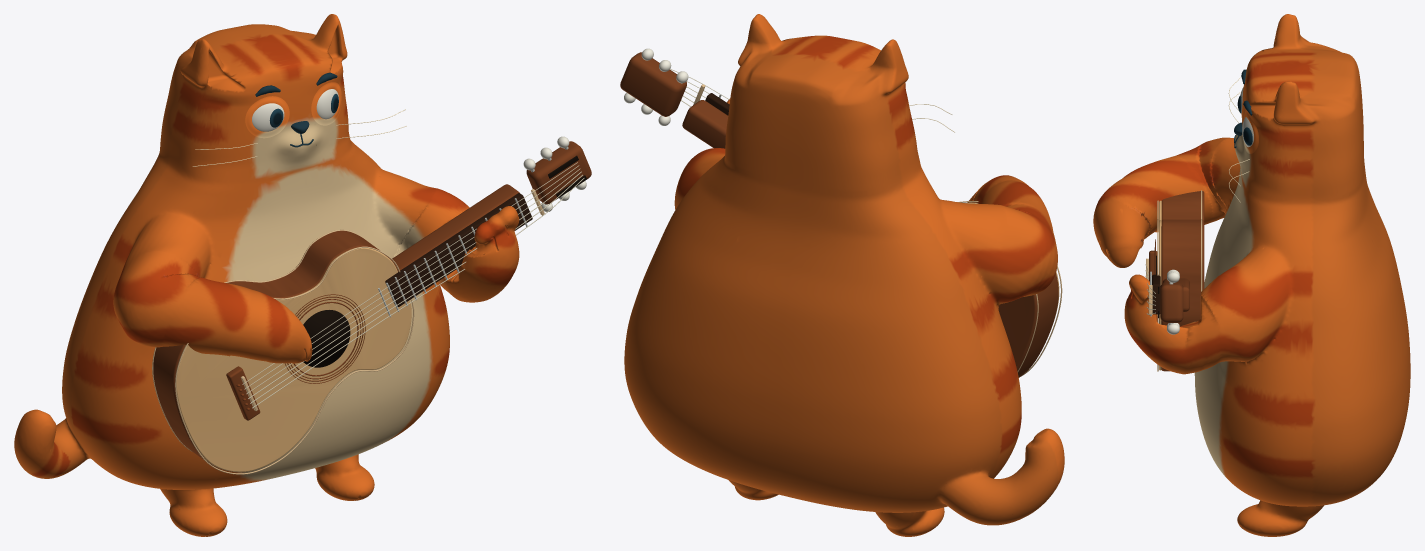
Rendered from miao-playable.glb.
The picture shows the model from 3 angles, left to right: view 1: azimuth 30°, elevation 25°; view 2: azimuth 150°, elevation 25°; view 3: azimuth 270°, elevation 25°; orthographic projection. The views are drawn at different scales.
Parts seen in each view (by area): view 1: Miao / continuous pear and rounded-square face.001, Guitar / spruce soundboard.001, Guitar / rosewood body.001, Guitar / ebony fretboard.001, Guitar / neck.001, Guitar / headstock.001, Guitar / soundhole chamber.001, Guitar / continuous binding.002, Guitar / bridge.001; view 2: Miao / continuous pear and rounded-square face.001, Guitar / rosewood body.001, Guitar / headstock.001, Guitar / neck.001; view 3: Miao / continuous pear and rounded-square face.001, Guitar / rosewood body.001, Guitar / headstock.001.
Part boxes in pixels (x1,y1,x2,y2): Miao / continuous pear and rounded-square face.001: [14, 14, 519, 536]; Guitar / spruce soundboard.001: [175, 247, 411, 472]; Guitar / rosewood body.001: [153, 230, 392, 470]; Guitar / ebony fretboard.001: [385, 193, 532, 306]; Guitar / neck.001: [392, 184, 519, 271]; Guitar / headstock.001: [526, 141, 591, 204]; Guitar / soundhole chamber.001: [303, 310, 350, 367]; Guitar / continuous binding.002: [175, 246, 414, 474]; Guitar / bridge.001: [226, 366, 260, 420]; Miao / continuous pear and rounded-square face.001: [624, 14, 1064, 536]; Guitar / rosewood body.001: [998, 273, 1058, 377]; Guitar / headstock.001: [620, 52, 686, 116]; Guitar / neck.001: [682, 100, 728, 148]; Miao / continuous pear and rounded-square face.001: [1093, 14, 1410, 536]; Guitar / rosewood body.001: [1161, 191, 1204, 371]; Guitar / headstock.001: [1160, 282, 1183, 322].
Bounding box in the file's own units: 3.78 × 3.49 × 2.2.
